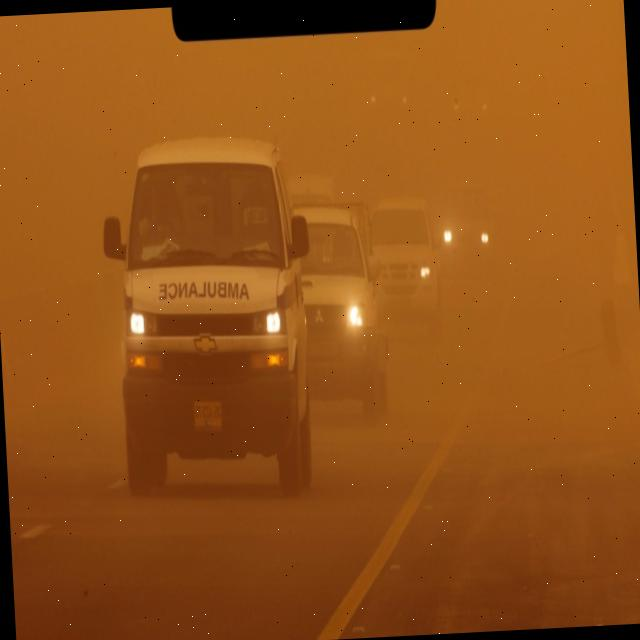car: (98, 131, 321, 500), (292, 197, 396, 432), (362, 194, 447, 332), (437, 174, 502, 288)
